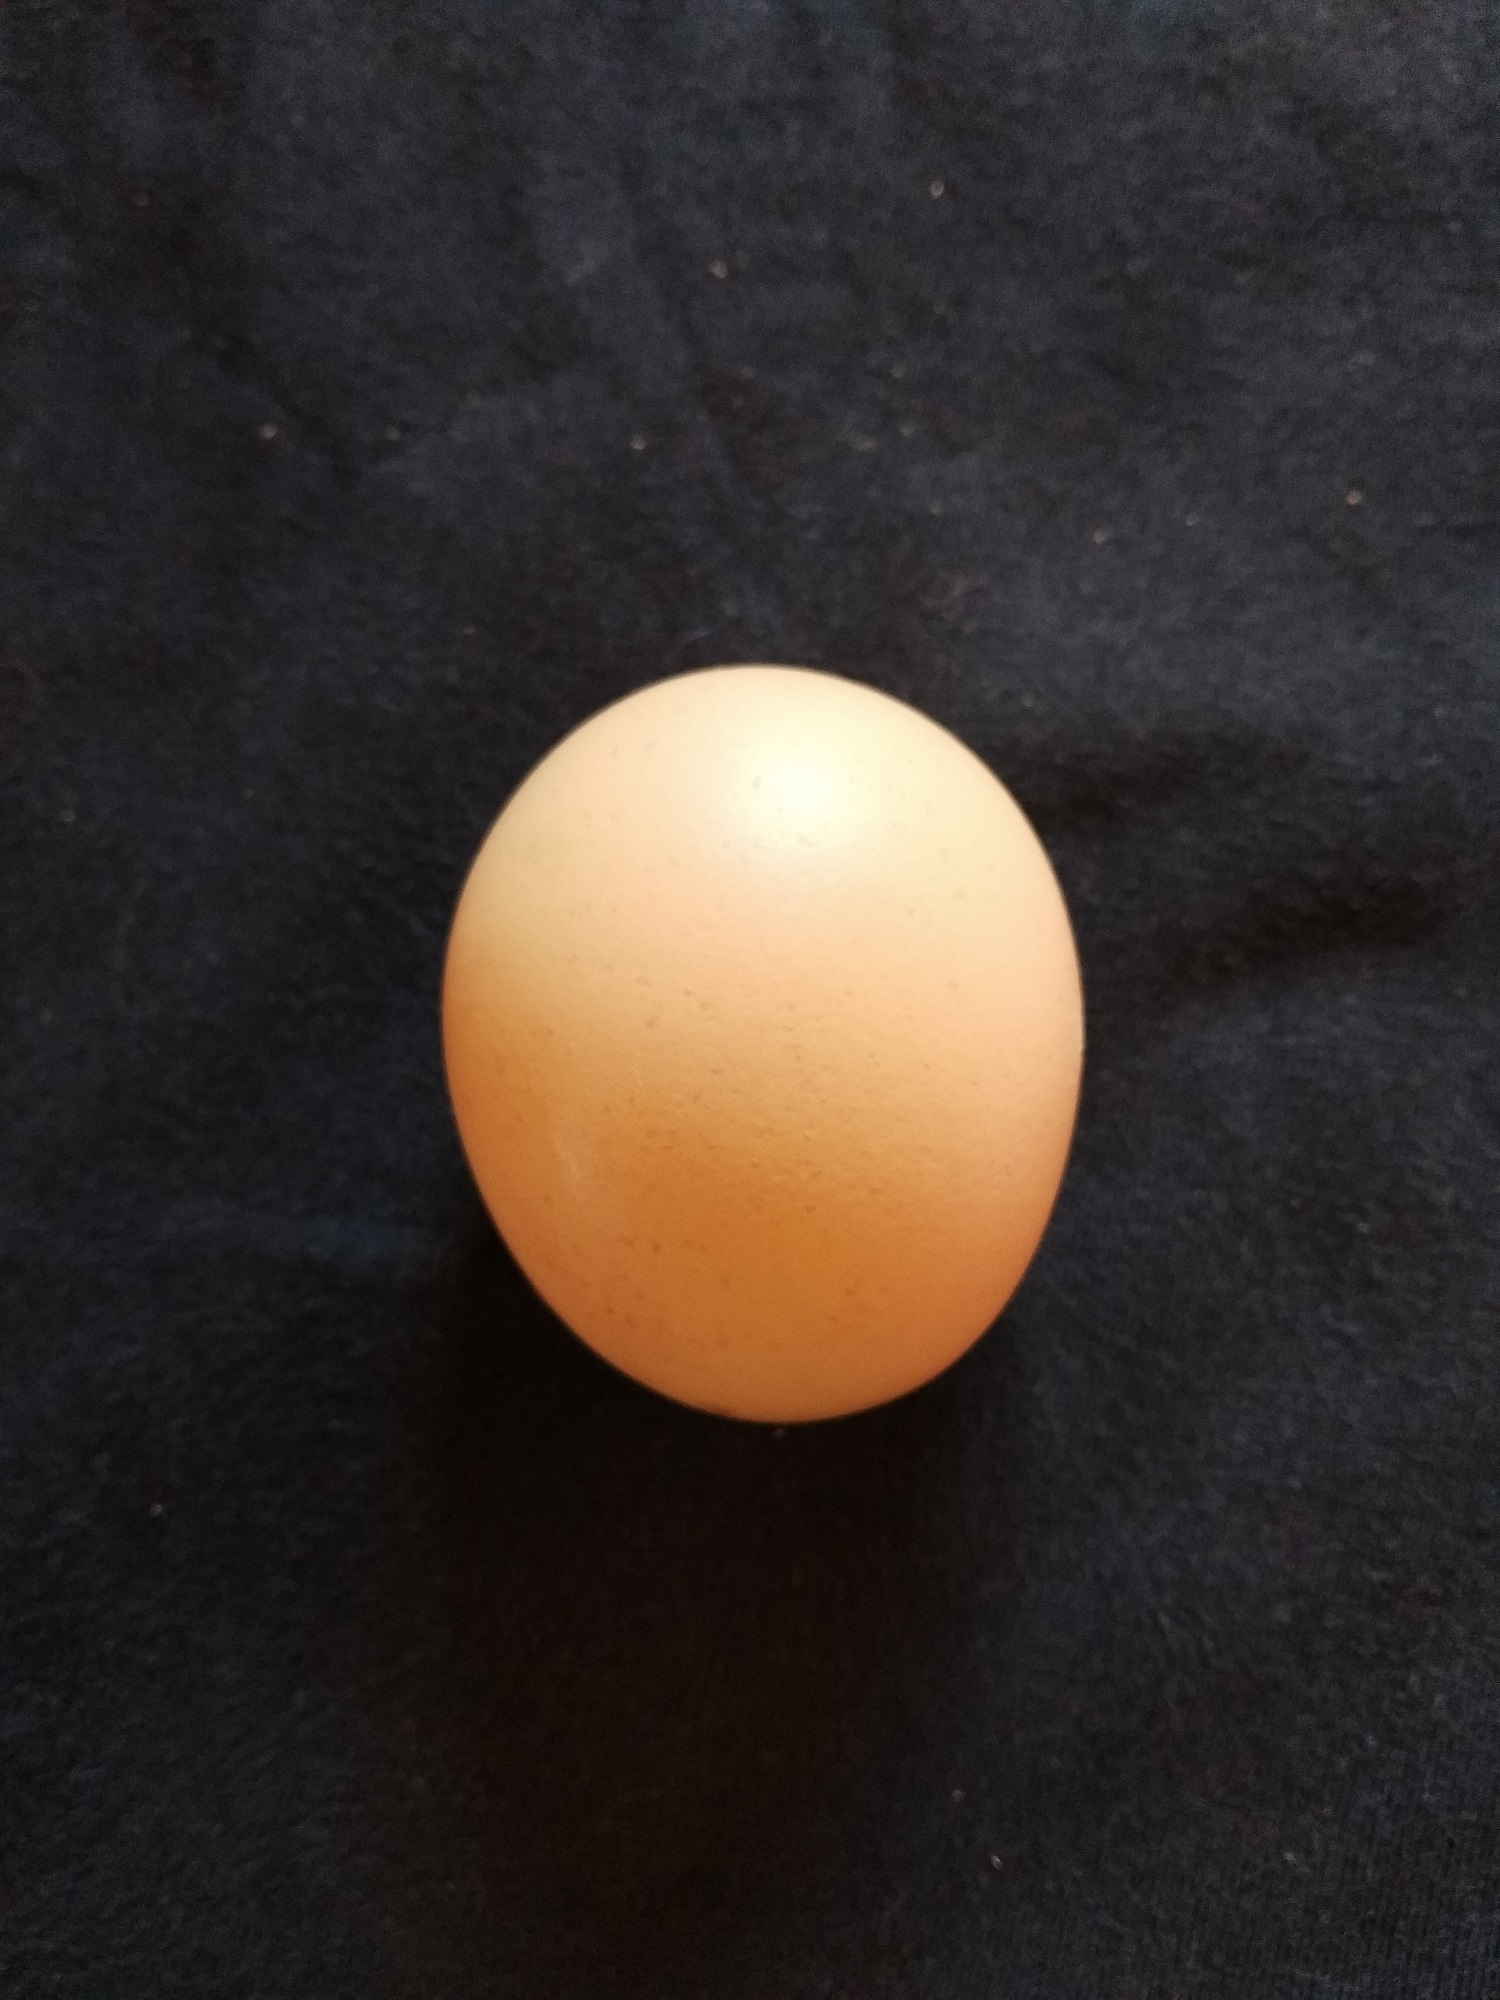Female: (433, 658, 1087, 1428)
